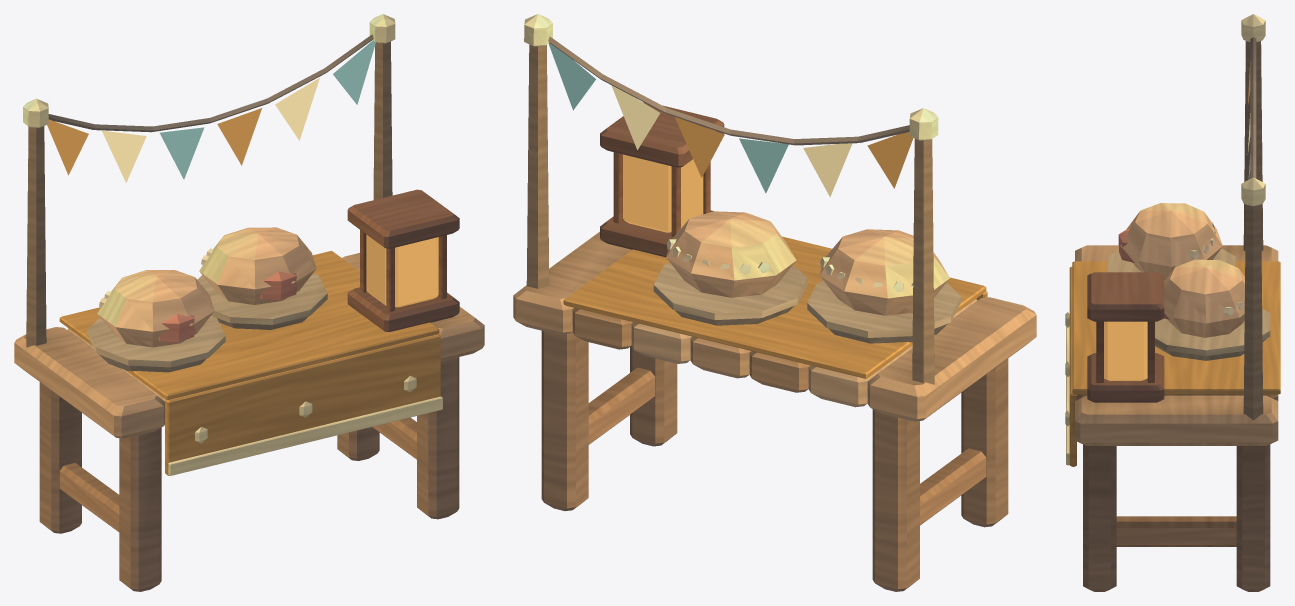
The model's file is season_table_summer.glb.
The picture shows the model from 3 angles, left to right: view 1: azimuth 30°, elevation 25°; view 2: azimuth 150°, elevation 25°; view 3: azimuth 270°, elevation 25°; orthographic projection. The views are drawn at different scales.
Visible parts, largest first — view 1: Dorftisch · summer; view 2: Dorftisch · summer; view 3: Dorftisch · summer.
Part boxes in pixels (box(x1,y1,x2,y2)): Dorftisch · summer: box(14, 14, 484, 591); Dorftisch · summer: box(513, 14, 1036, 591); Dorftisch · summer: box(1065, 14, 1280, 591).
Size of the model in its own units: 1.67 by 1.88 by 0.8689.
2 materials, 1 textured.
